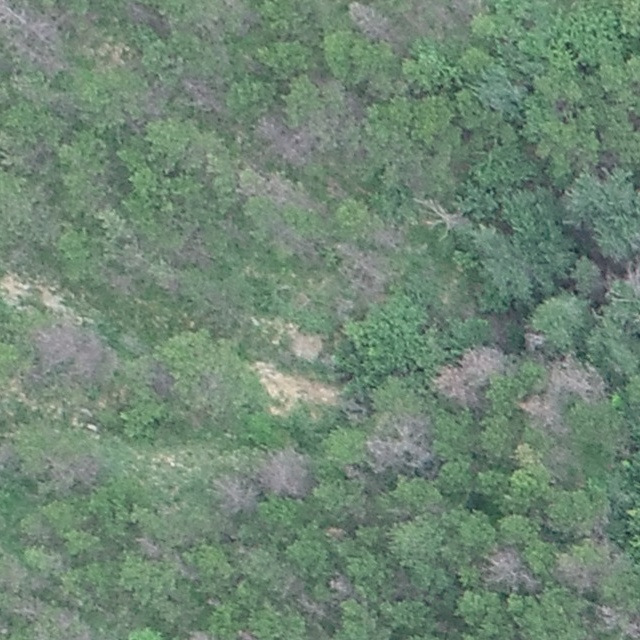unhealthy: (432, 343, 507, 409), (0, 2, 63, 74), (364, 412, 435, 475), (334, 245, 390, 307), (253, 111, 311, 169), (256, 445, 312, 499), (261, 169, 326, 215), (548, 354, 606, 404), (480, 546, 539, 594), (276, 571, 326, 620), (45, 449, 102, 491), (31, 321, 81, 367), (412, 194, 464, 238), (347, 0, 397, 45), (268, 221, 320, 263), (71, 327, 112, 380), (1, 556, 49, 599), (137, 535, 186, 575), (212, 473, 258, 515), (551, 553, 596, 595), (519, 397, 565, 438), (179, 74, 225, 113), (174, 230, 213, 270), (135, 79, 173, 117), (121, 0, 167, 30), (20, 516, 62, 548), (587, 600, 624, 635), (362, 217, 406, 246), (225, 1, 262, 35), (51, 614, 96, 640), (2, 600, 46, 622), (624, 253, 640, 303), (522, 327, 548, 352), (0, 436, 17, 471), (329, 574, 351, 597), (624, 608, 640, 639), (185, 628, 218, 639), (233, 628, 259, 639)
